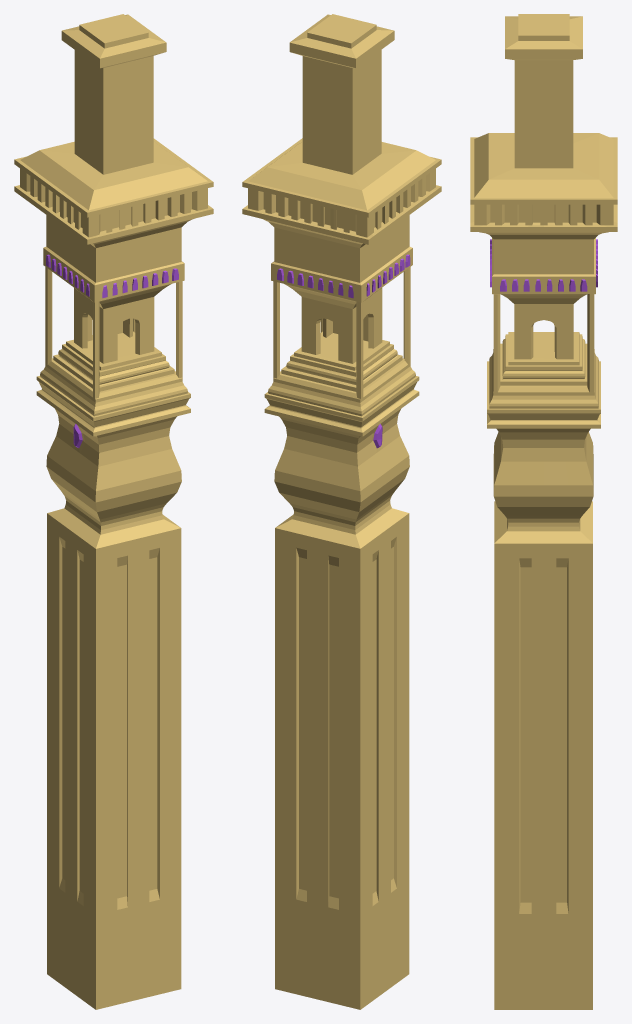
Rendered from Area2.Pillar1.dec.fbx.
3 views of the same model, side by side, from view 1: azimuth 30°, elevation 25°; view 2: azimuth 150°, elevation 25°; view 3: azimuth 270°, elevation 25° (orthographic).
Parts seen in each view (by area): view 1: Cube; view 2: Cube; view 3: Cube.
Part boxes in pixels (x1=…): Cube: x1=14, y1=14, x2=213, y2=1009; Cube: x1=242, y1=14, x2=441, y2=1009; Cube: x1=470, y1=14, x2=617, y2=1009.
Size of the model in its own units: 257 by 1850 by 257.
